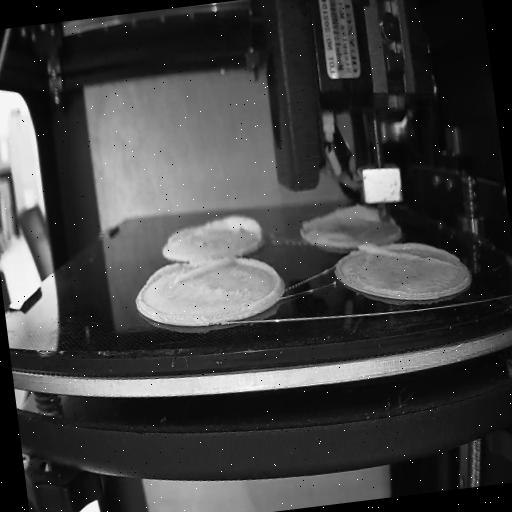over_extrusion: (356, 231, 453, 281), (144, 256, 236, 290), (234, 254, 286, 310), (304, 196, 374, 228), (204, 212, 266, 248), (166, 227, 196, 243)
